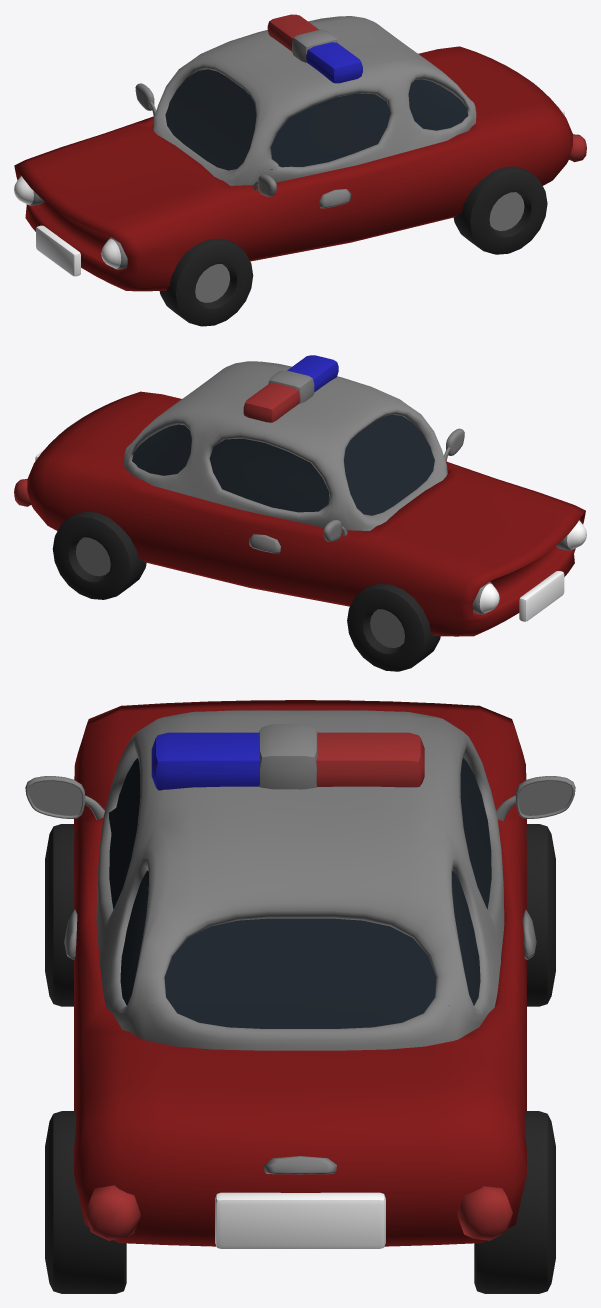
The model's file is SM_policecar.fbx.
3 views of the same model, one above another, from view 1: azimuth 30°, elevation 25°; view 2: azimuth 150°, elevation 25°; view 3: azimuth 270°, elevation 25° (orthographic). The views are drawn at different scales.
Parts seen in each view (by area): view 1: Object295; view 2: Object295; view 3: Object295.
Part boxes in pixels (bbox=[...]): Object295: bbox=[14, 14, 586, 326]; Object295: bbox=[14, 355, 586, 671]; Object295: bbox=[25, 700, 575, 1293].
Size of the model in its own units: 196 by 79.32 by 94.41.
